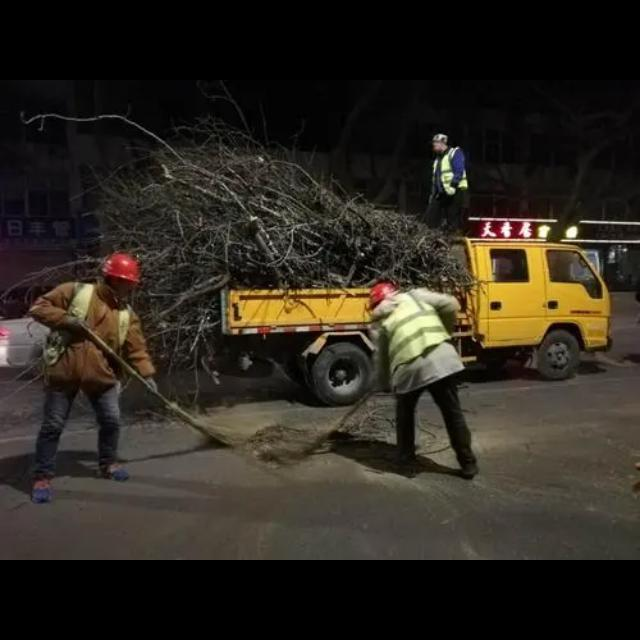fallen_tree: (64, 136, 468, 322)
